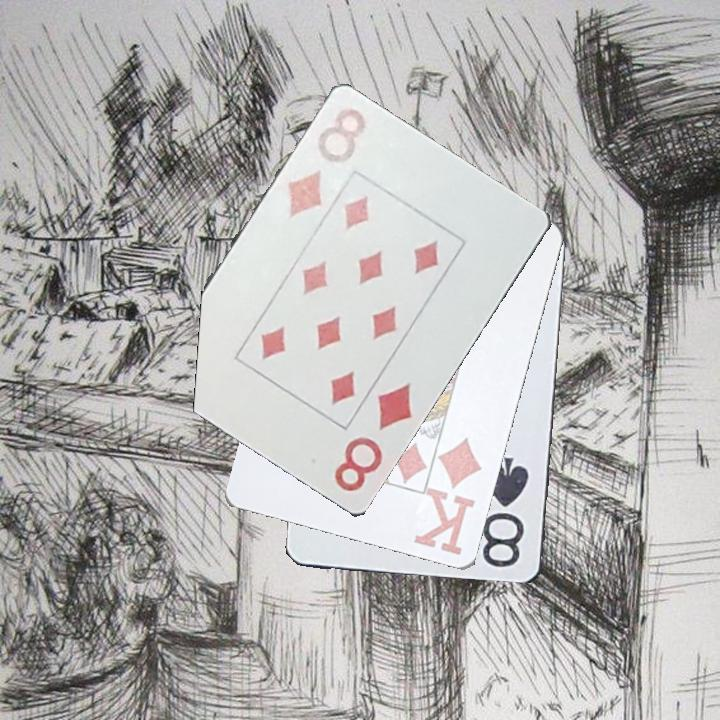8d: (329, 379, 416, 496), (284, 105, 369, 222)
8s: (480, 453, 532, 571)
Kd: (414, 434, 486, 559)
